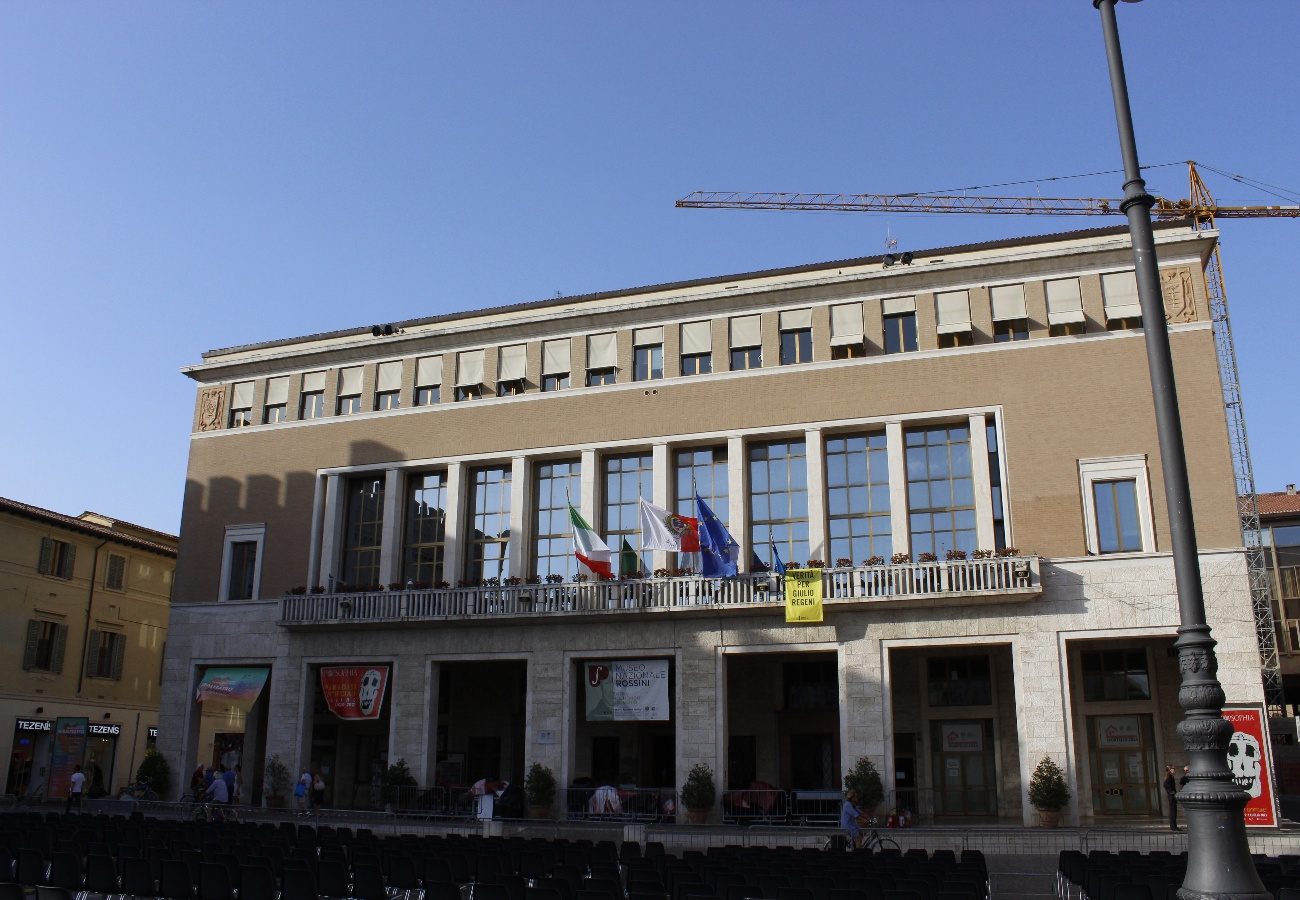Palazzo Comunale: (155, 219, 1287, 837)
